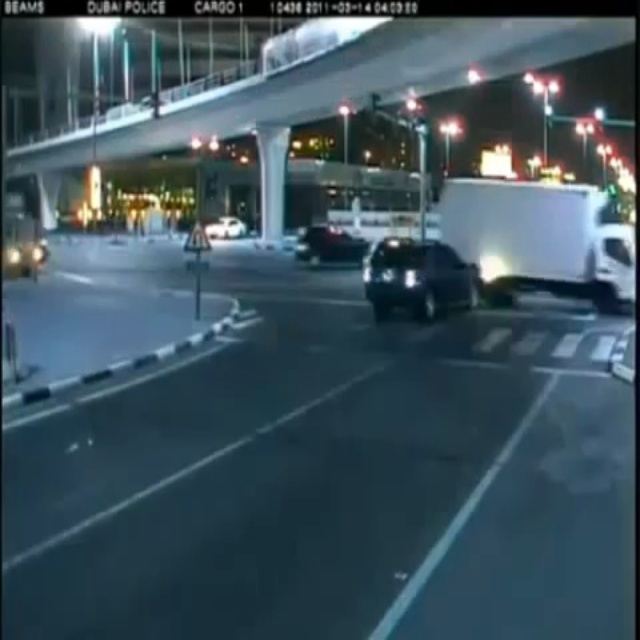acc: (358, 173, 529, 331)
